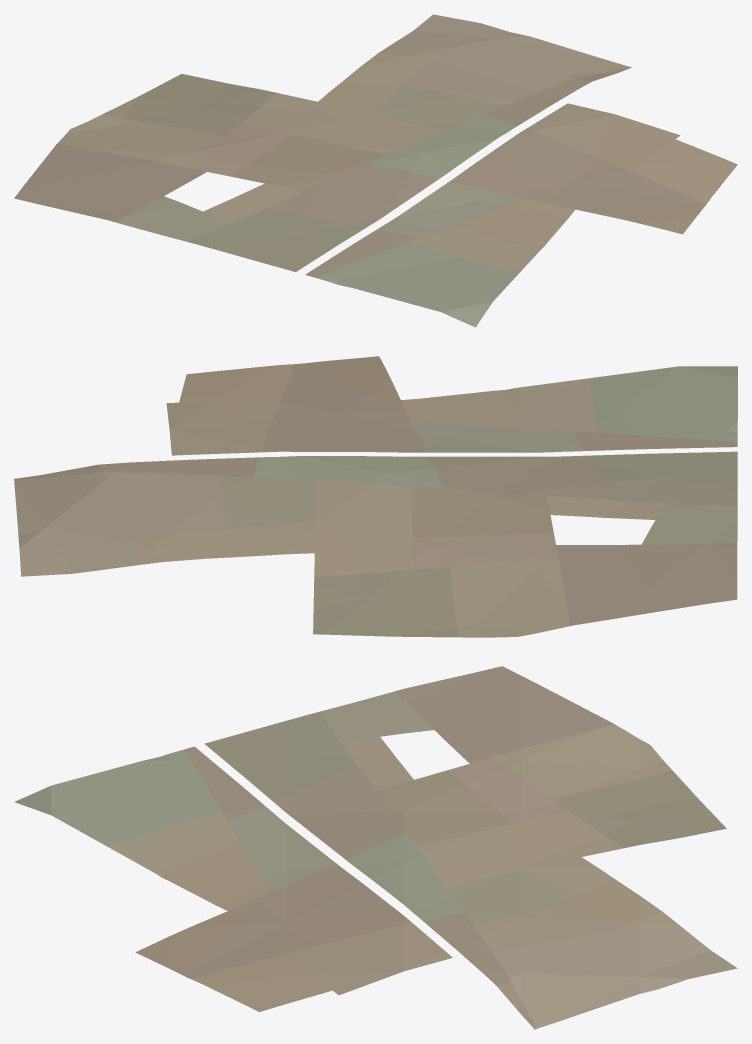
Rendered from farm_-31_-25_soil.glb.
The picture shows the model from 3 angles, top to bottom: view 1: azimuth 30°, elevation 25°; view 2: azimuth 150°, elevation 25°; view 3: azimuth 270°, elevation 25°; orthographic projection. The views are drawn at different scales.
Parts seen in each view (by area): view 1: geometry_0; view 2: geometry_0; view 3: geometry_0.
Boxes of the visible parts, left/top/right/bottom form: geometry_0: left=14, top=14, right=737, bottom=327; geometry_0: left=14, top=356, right=737, bottom=637; geometry_0: left=14, top=666, right=737, bottom=1029.
Bounding box in the file's own units: 526 × 28.67 × 492.
